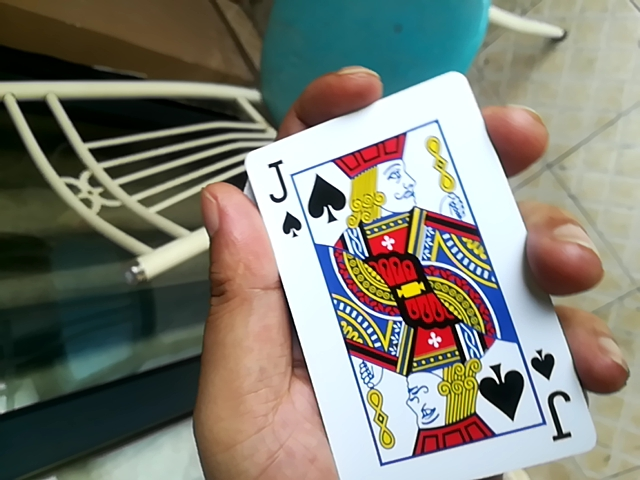ht j: (231, 69, 589, 475)
